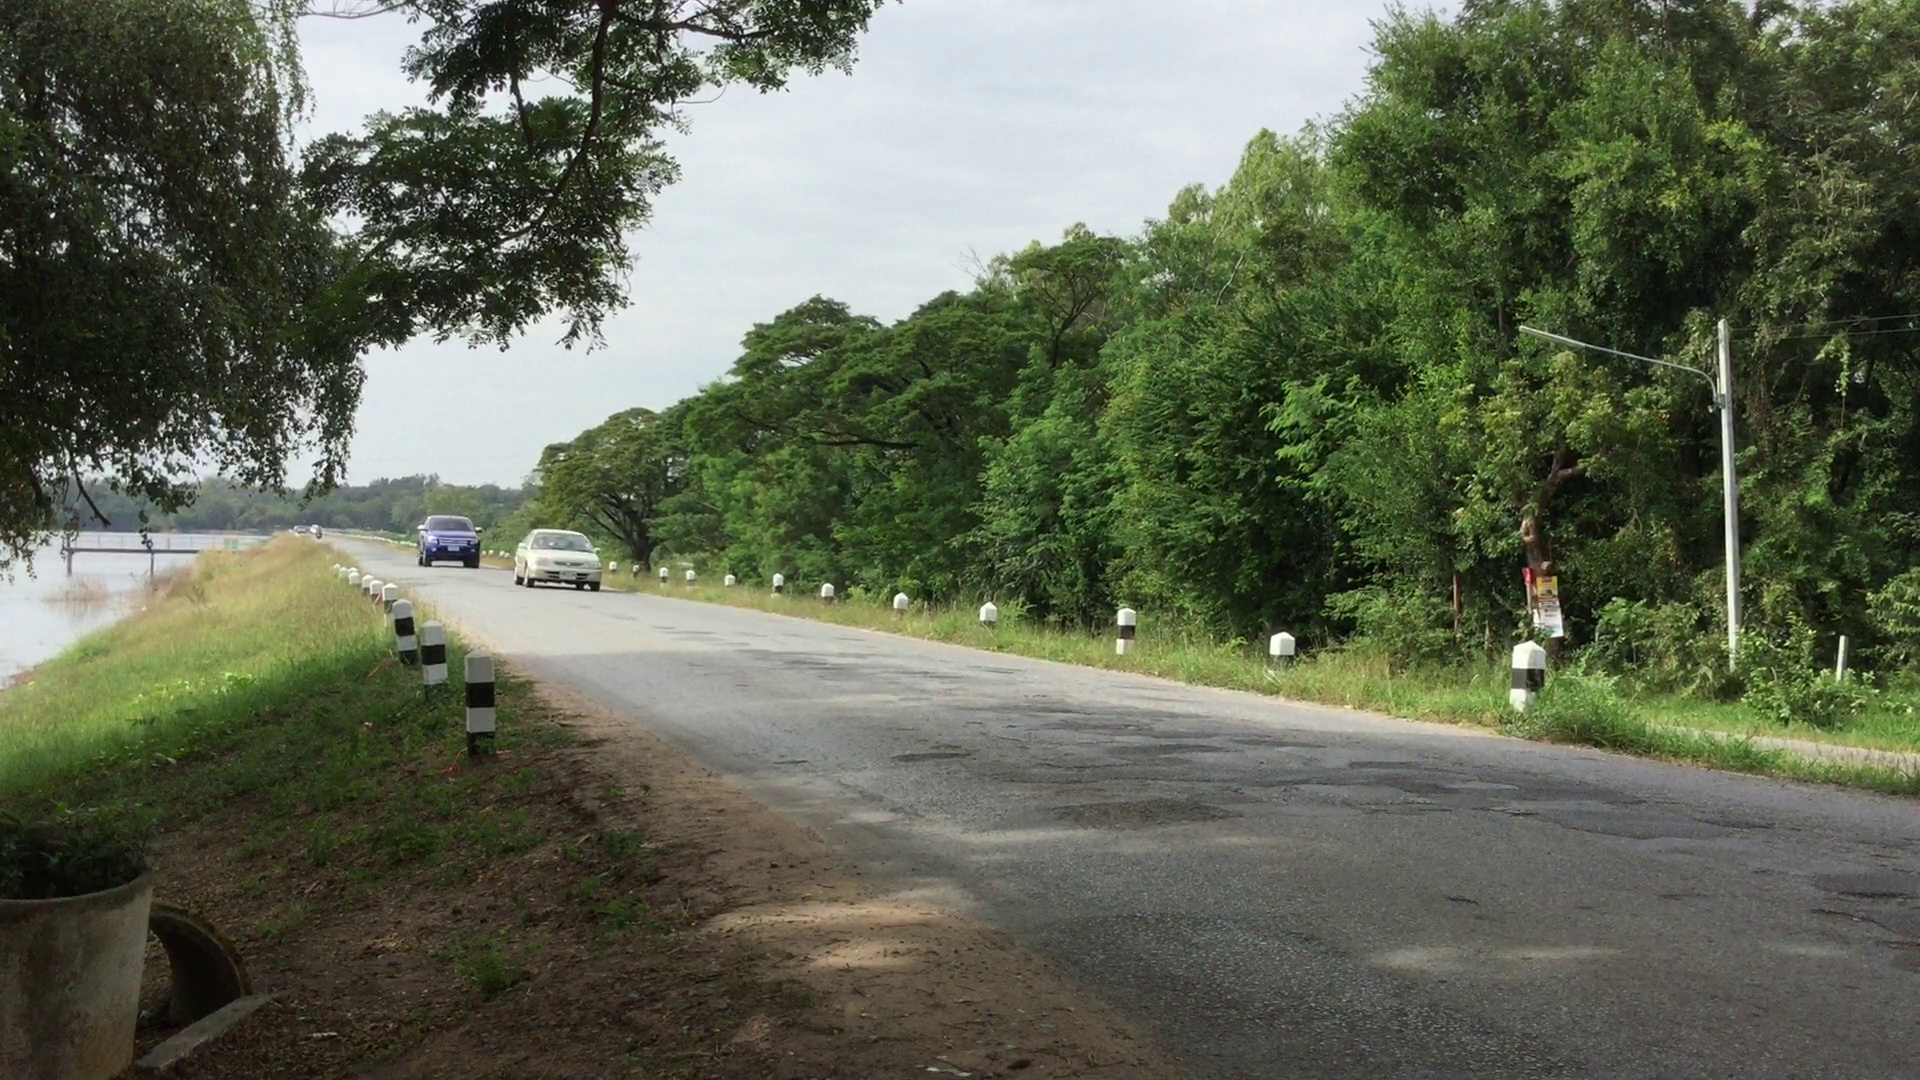car: (513, 529, 603, 589), (422, 517, 480, 563)
